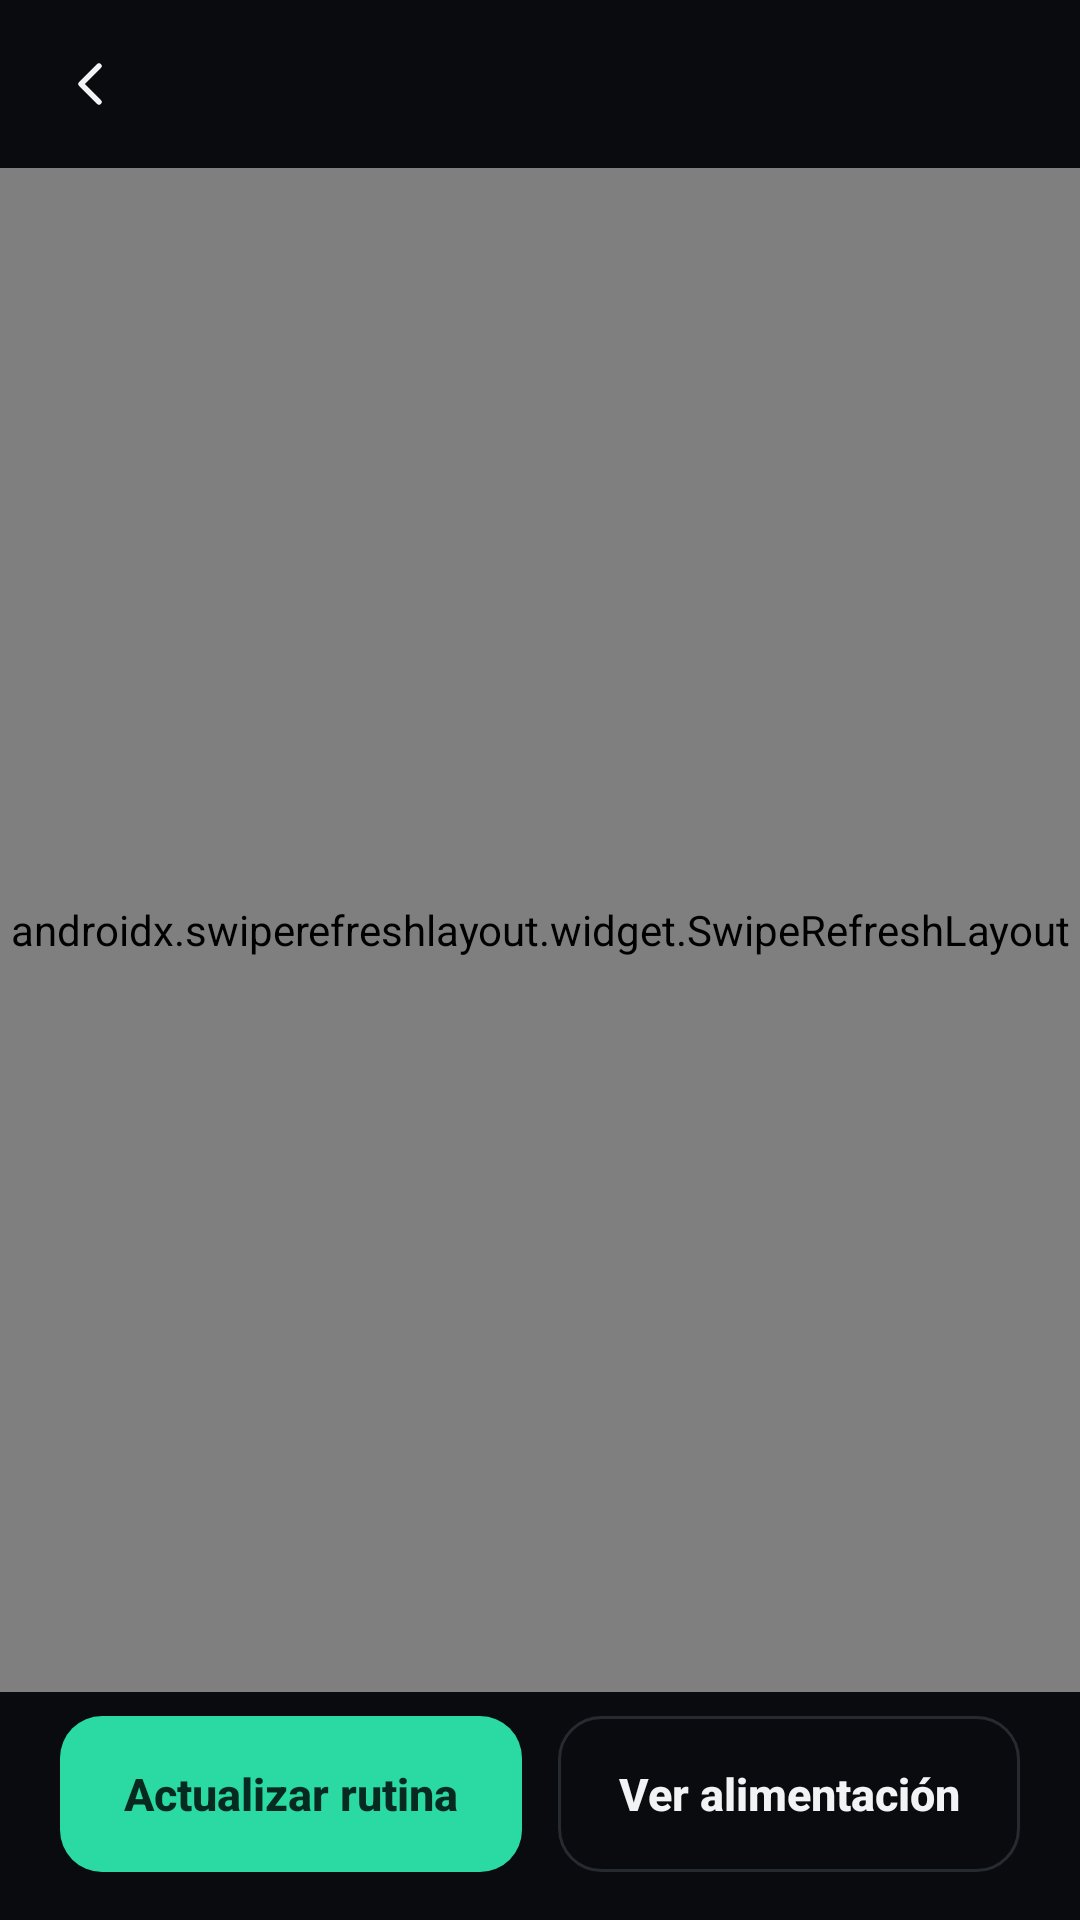

Icon click points for this 1080 × 1920 phone screenshot, format [x,y]:
Atrás: [90,84]
